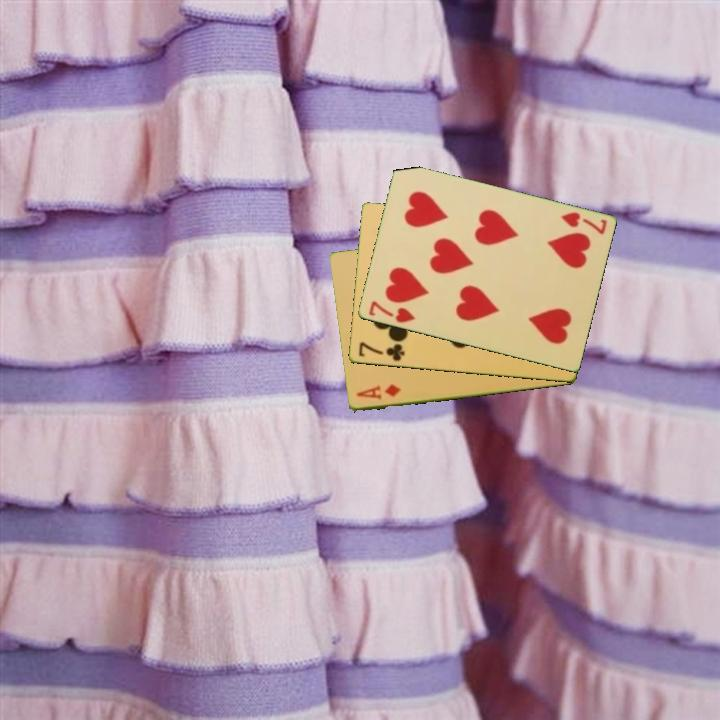7c: (355, 338, 407, 364)
7h: (365, 297, 418, 326), (557, 209, 609, 238)
Ad: (353, 381, 403, 403)
